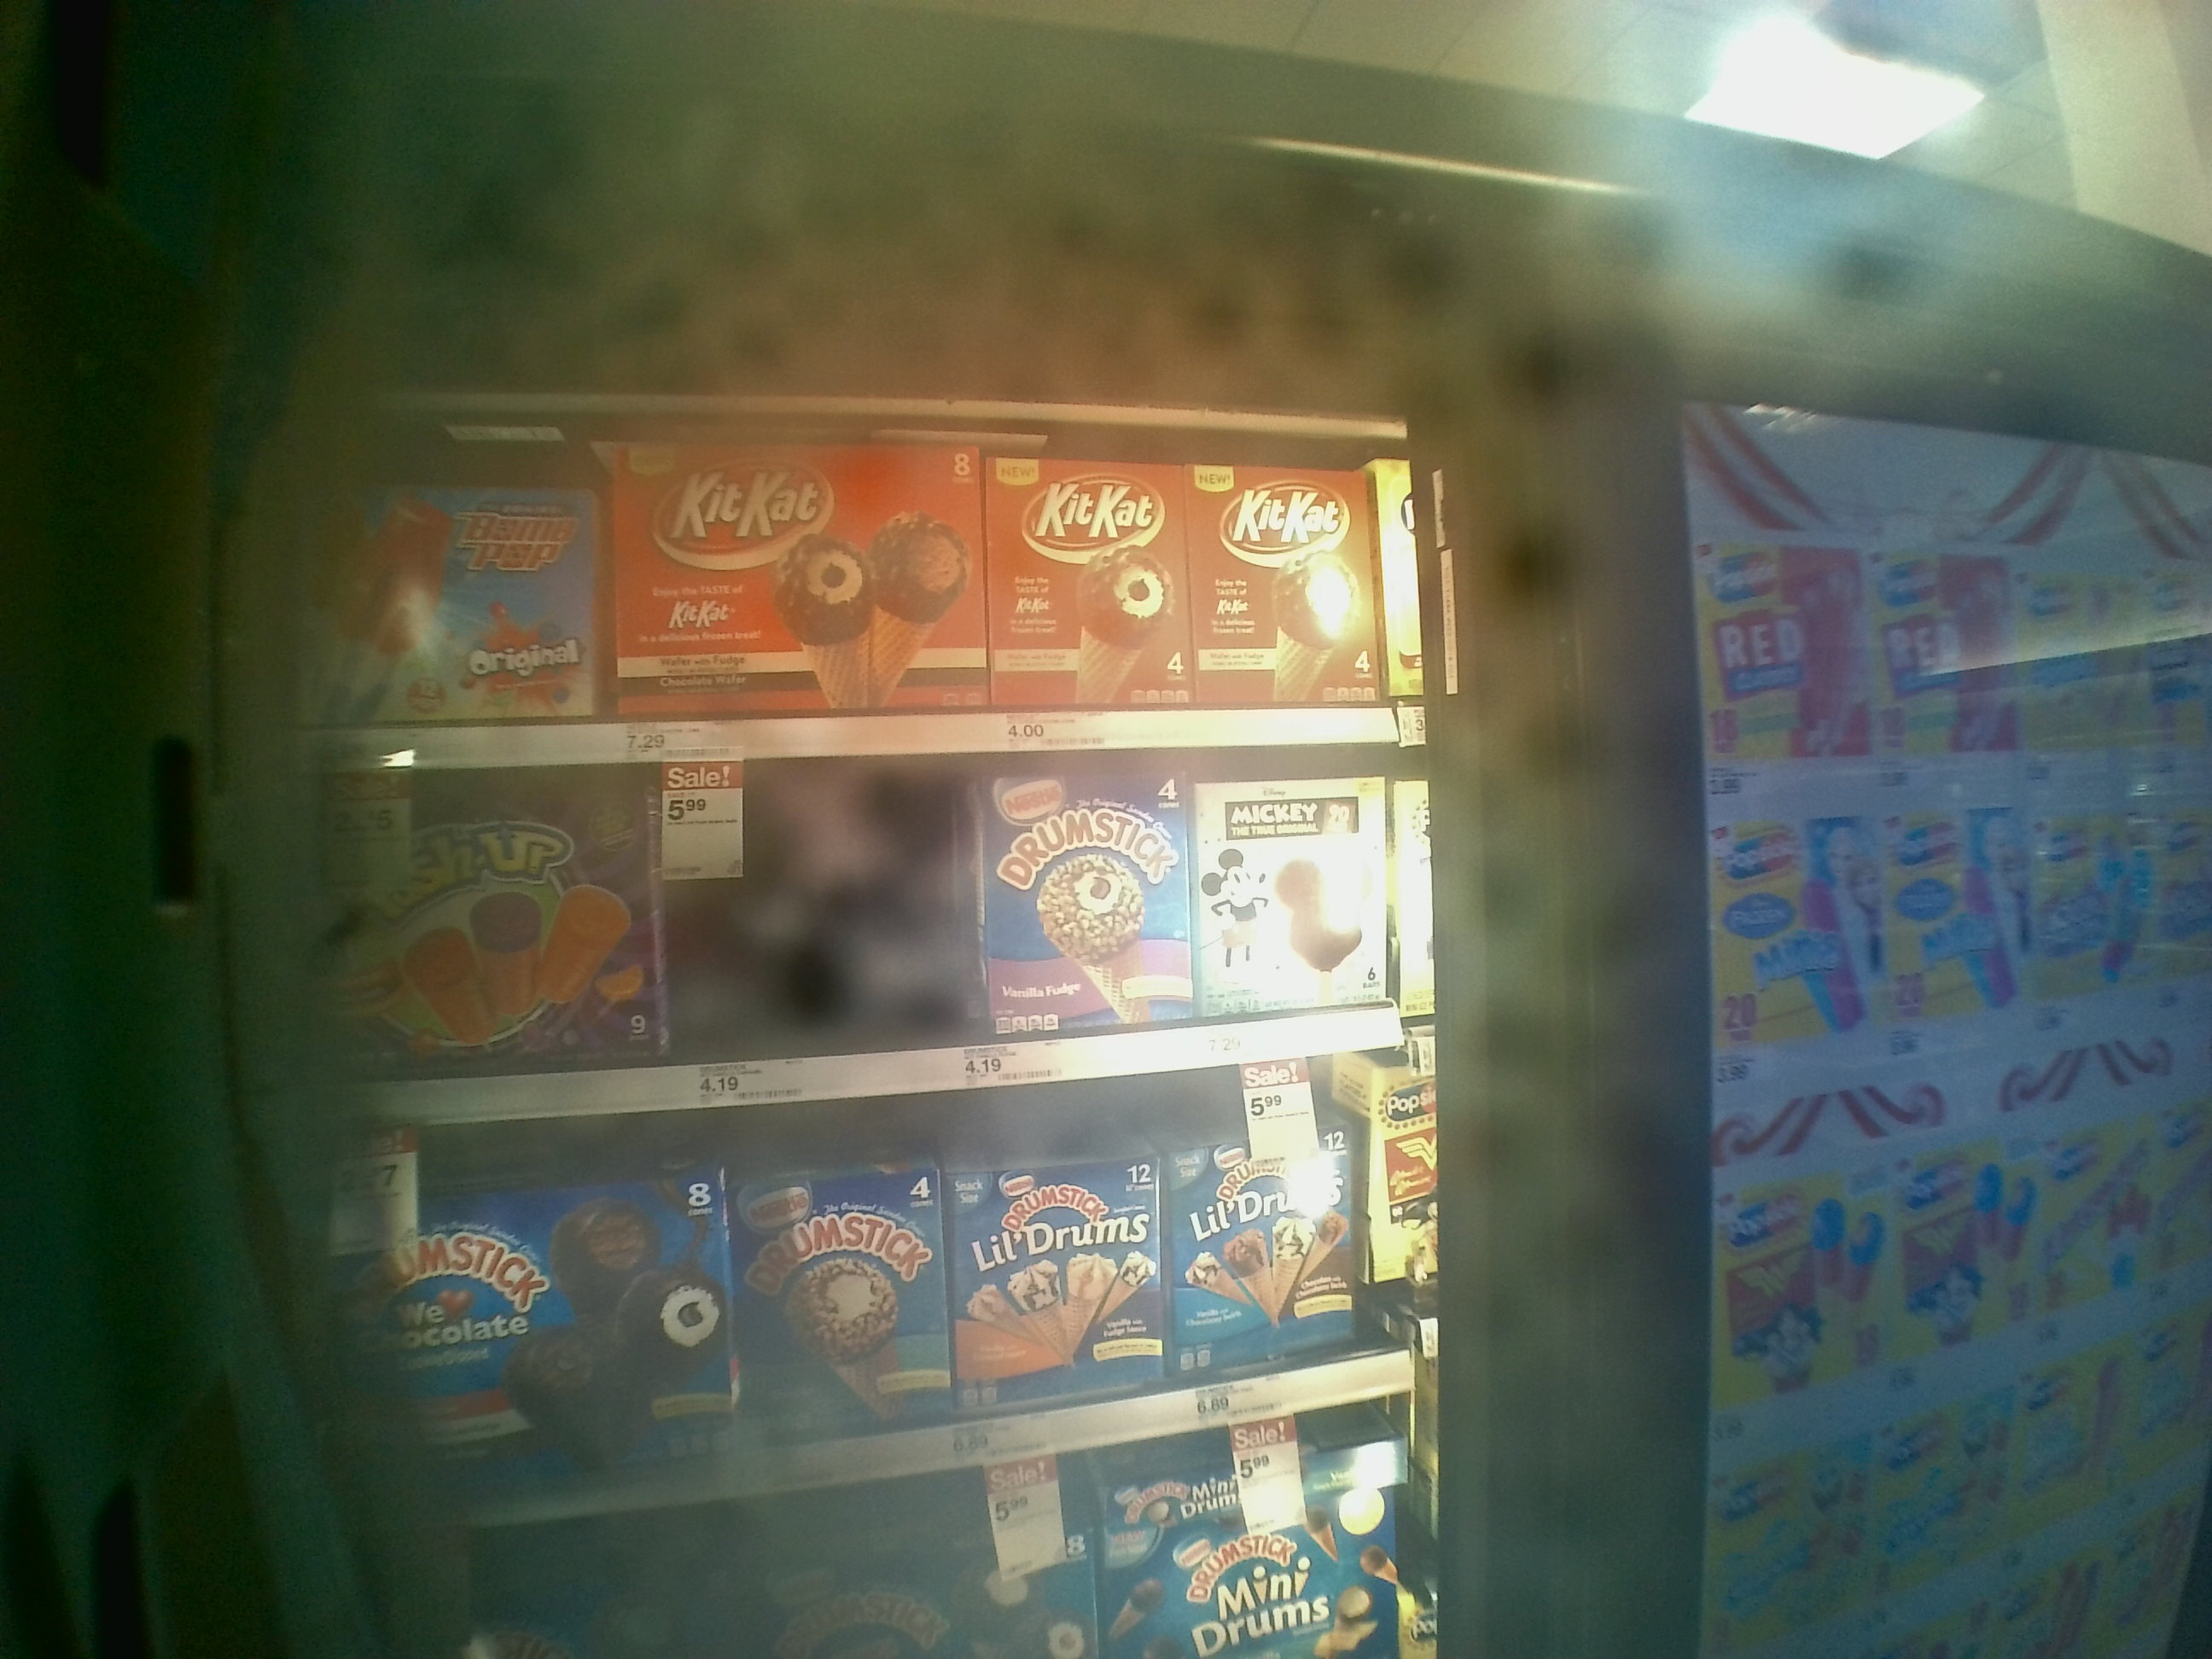shelf: (301, 1028, 1446, 1516), (298, 742, 1446, 1138), (296, 408, 1428, 767)
